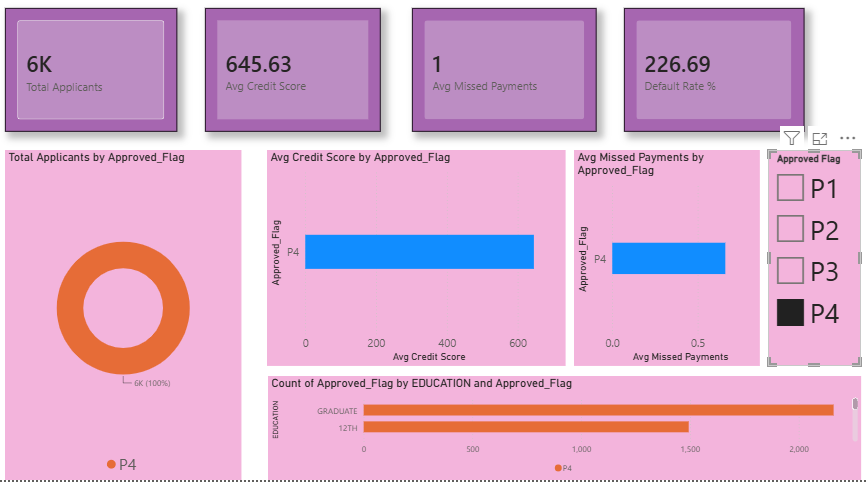

The page's visual inventory and layout, read from the dashboard file:
{"tool":"powerbi","page":{"name":"BFSI Credit Risk overview","canvas":[1280,720],"ordinal":0},"visuals":[{"type":"cardVisual","fields":{"Data":["BFSI dataset.Total Applicants"]},"box":[10.1,28.6,252,181.4],"z":0},{"type":"cardVisual","fields":{"Data":["BFSI dataset.Default Rate %"]},"box":[915.5,28.6,263.7,181.4],"z":1},{"type":"cardVisual","fields":{"Data":["BFSI dataset.Avg Credit Score"]},"box":[302.4,28.6,257,181.4],"z":2},{"type":"cardVisual","fields":{"Data":["BFSI dataset.Avg Missed Payments"]},"box":[606.4,28.6,270.4,181.4],"z":3},{"type":"donutChart","fields":{"Y":["BFSI dataset.Total Applicants"],"Category":["BFSI dataset.Approved_Flag"]},"box":[10.1,236.9,346,483.8],"z":4},{"type":"clusteredBarChart","fields":{"Category":["BFSI dataset.Approved_Flag"],"Y":["BFSI dataset.Avg Credit Score"]},"box":[393.1,236.9,436.7,315.8],"z":5},{"type":"clusteredBarChart","fields":{"Category":["BFSI dataset.Approved_Flag"],"Y":["BFSI dataset.Avg Missed Payments"]},"box":[843.3,236.9,272.1,315.8],"z":6},{"type":"barChart","fields":{"Y":["CountNonNull(BFSI dataset.Approved_Flag)"],"Series":["BFSI dataset.Approved_Flag"],"Category":["BFSI dataset.EDUCATION"]},"box":[394.8,567.8,868.5,152.9],"z":7},{"type":"slicer","fields":{"Values":["BFSI dataset.Approved_Flag"]},"box":[1127.1,236.9,136.1,315.8],"z":8}]}

Visuals, with their boxes in screenshot pixels (x1, y1, x2, y2), scaled from the page's 1280x720 canvas onto the 866x485 screenshot:
cardVisual - BFSI dataset.Total Applicants: <region>7, 19, 177, 141</region>
cardVisual - BFSI dataset.Default Rate %: <region>619, 19, 798, 141</region>
cardVisual - BFSI dataset.Avg Credit Score: <region>205, 19, 378, 141</region>
cardVisual - BFSI dataset.Avg Missed Payments: <region>410, 19, 593, 141</region>
donutChart - BFSI dataset.Total Applicants x BFSI dataset.Approved_Flag: <region>7, 160, 241, 484</region>
clusteredBarChart - BFSI dataset.Approved_Flag x BFSI dataset.Avg Credit Score: <region>266, 160, 561, 372</region>
clusteredBarChart - BFSI dataset.Approved_Flag x BFSI dataset.Avg Missed Payments: <region>571, 160, 755, 372</region>
barChart - CountNonNull(BFSI dataset.Approved_Flag) x BFSI dataset.Approved_Flag: <region>267, 382, 855, 484</region>
slicer - BFSI dataset.Approved_Flag: <region>763, 160, 855, 372</region>
